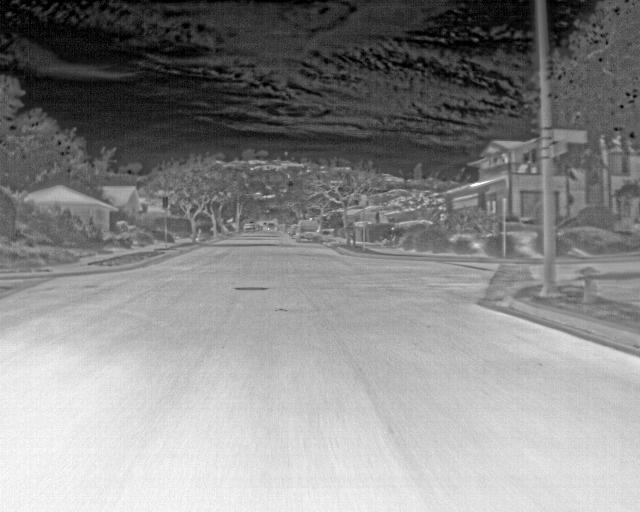car: (294, 218, 322, 242), (287, 222, 299, 238), (243, 221, 257, 234), (266, 221, 278, 232)
